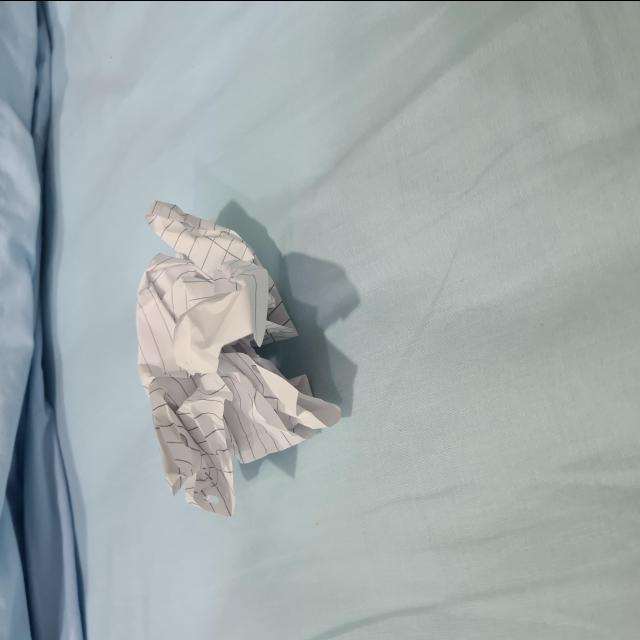kertas: (136, 188, 339, 502)
